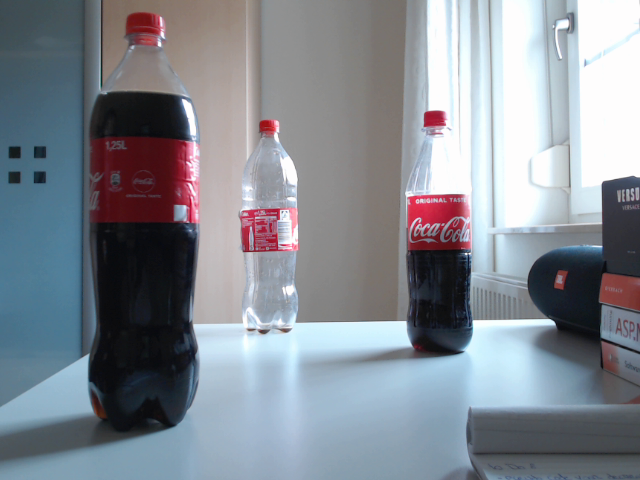bottle: (89, 11, 201, 434), (404, 109, 472, 356), (239, 118, 298, 334)
